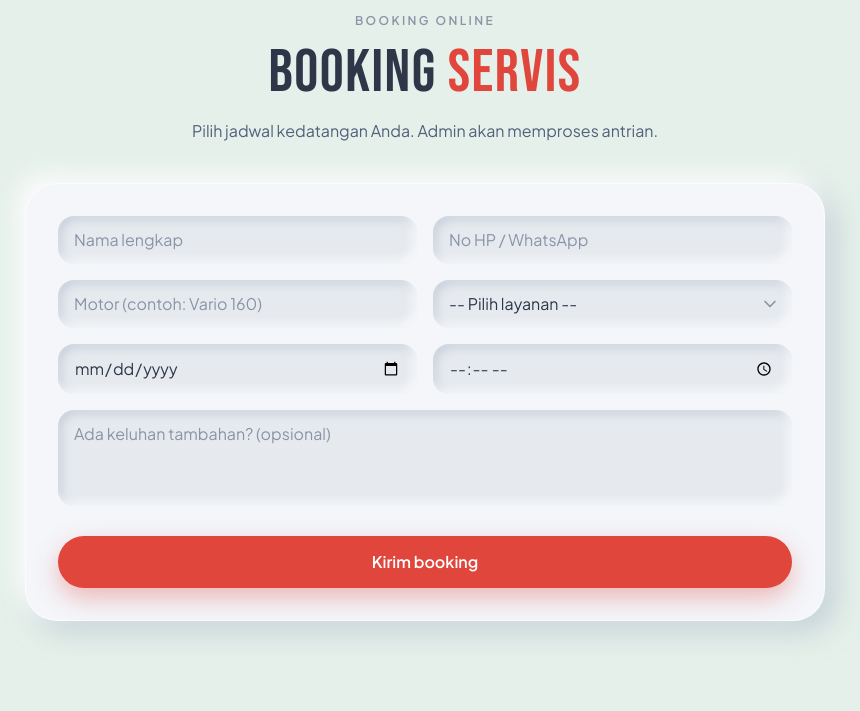
Test case: Booking Component › menampilkan pesan sukses setelah booking berhasil
// Isi dan submit form LENGKAP
In the field with placeholder "Nama lengkap": coordinates (238, 240) [58,216,417,264], type "John"
In the field with placeholder "No HP / WhatsApp": coordinates (612, 240) [433,216,792,264], type "081234"
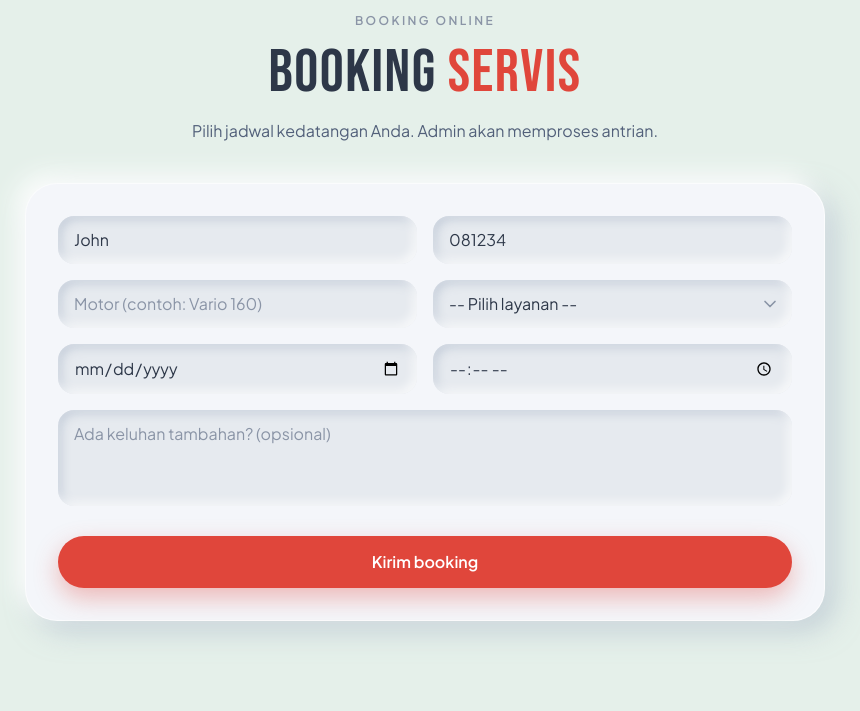
In the field with placeholder "Motor (contoh: Vario 160)": coordinates (238, 304) [58,280,417,328], type "Vario"
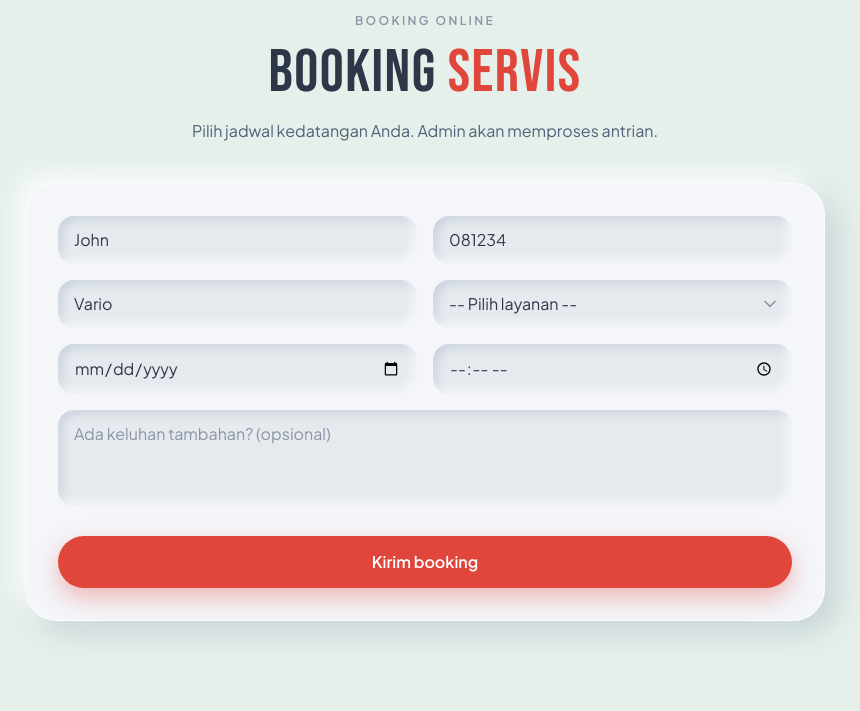
Select "Servis Ringan - Rp 50.000" in the dropdown: coordinates (612, 304) [433,280,792,328]
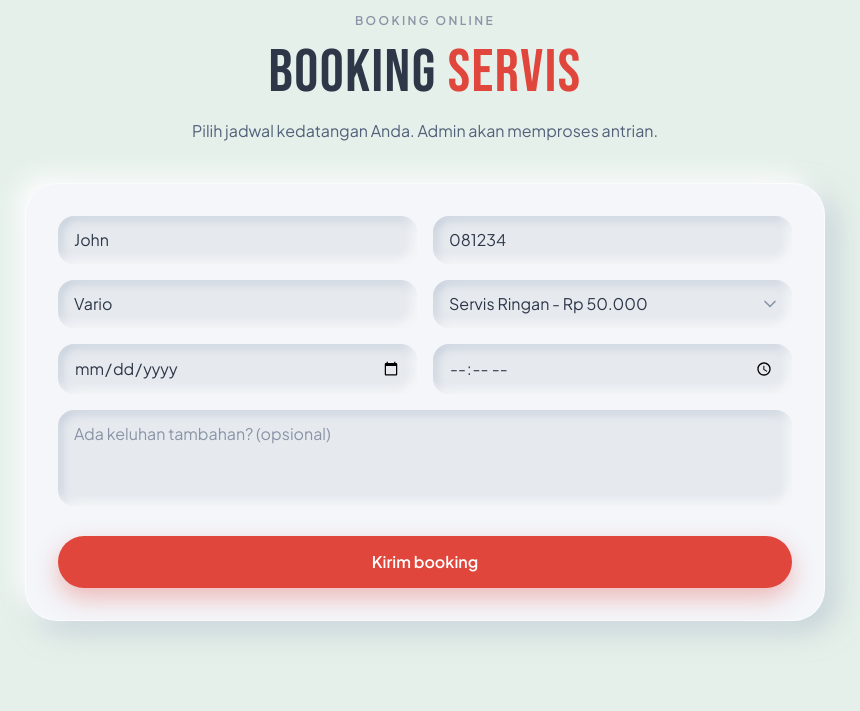
In the date field named "date": coordinates (238, 369) [58,344,417,394], type "2026-02-10"
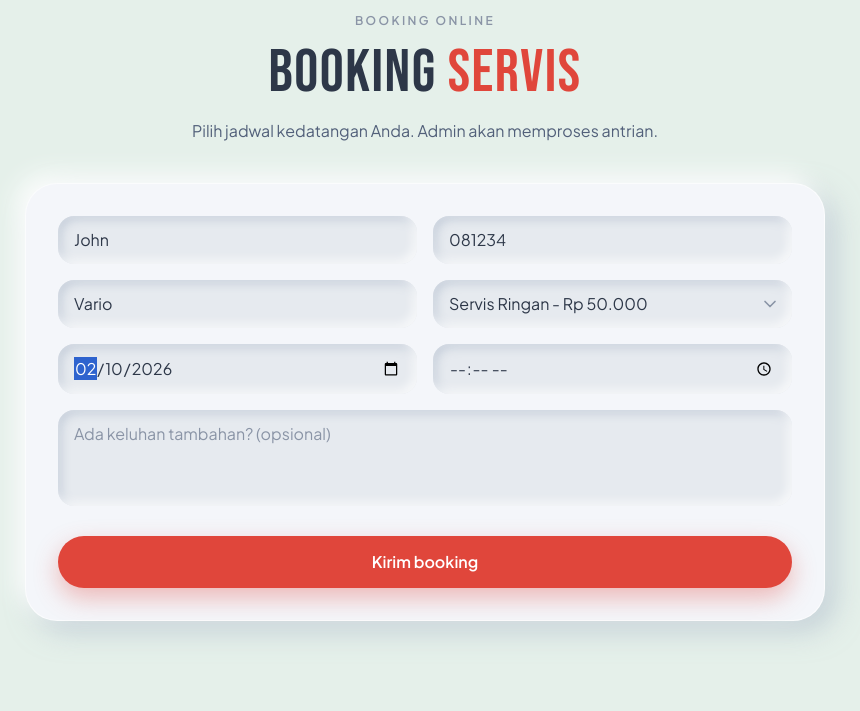
In the time field named "time": coordinates (612, 369) [433,344,792,394], type "10:00"
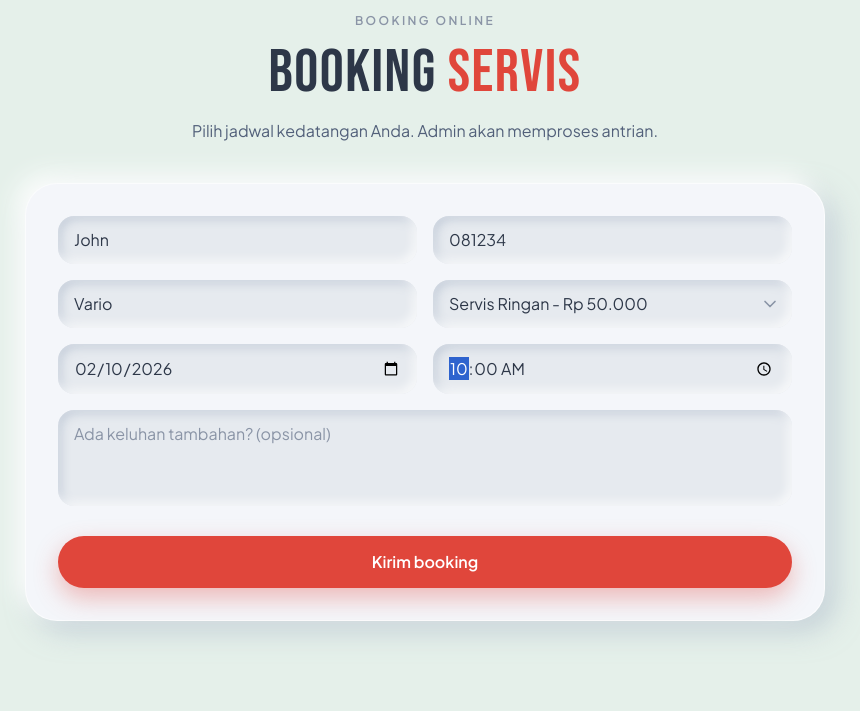
Click the button "Kirim booking": coordinates (425, 562) [58,536,792,588]
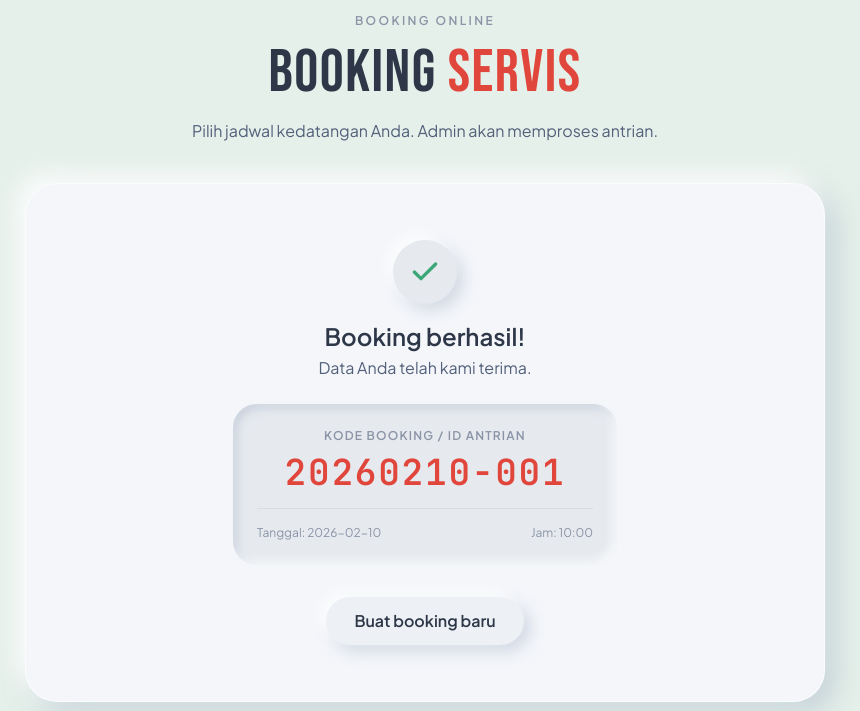
Now the heading "Booking berhasil!" is shown, box [324,321,526,351]
Now the text "20260210-001" is shown, box [285,448,565,496]
